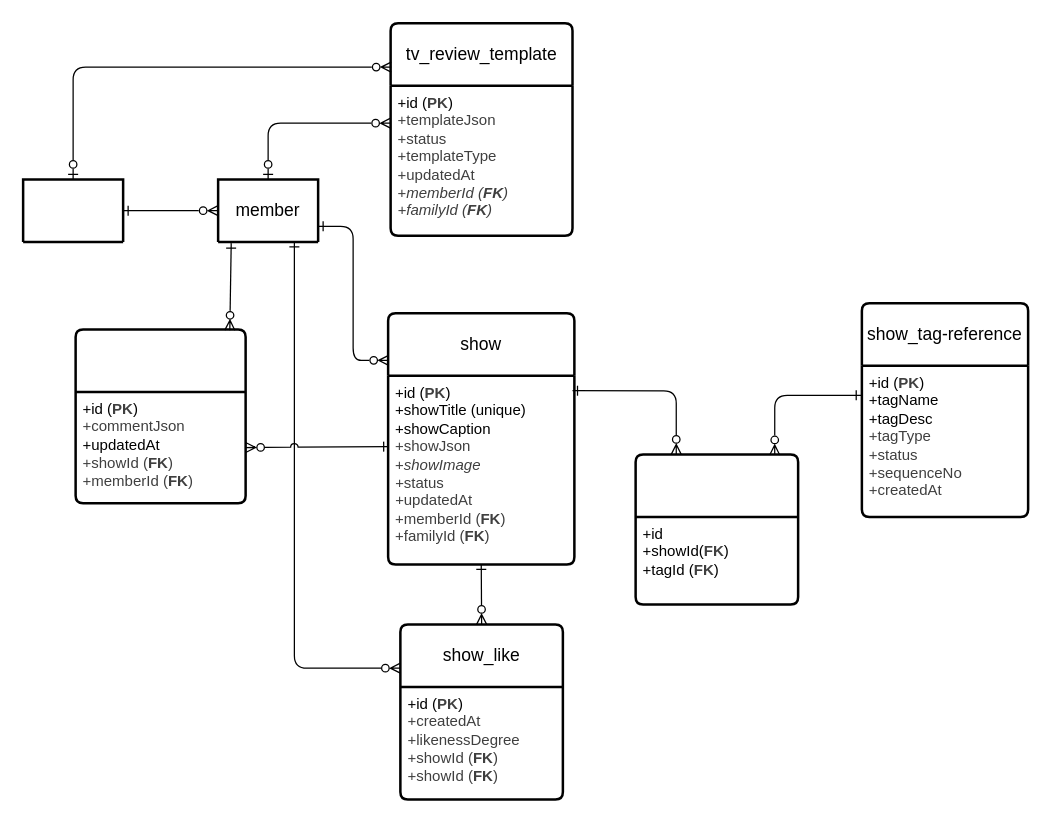
The diagram is 1050 pixels wide and 824 high, and some of its shapes have lost their labels. The shapes that lost their labels are listed below. From the top down, each one's box as (x1, y1, x2, y2) in pixels, then its label:
(21, 178, 124, 242): family
(74, 328, 246, 504): show_comment
(634, 452, 799, 605): show_tag
